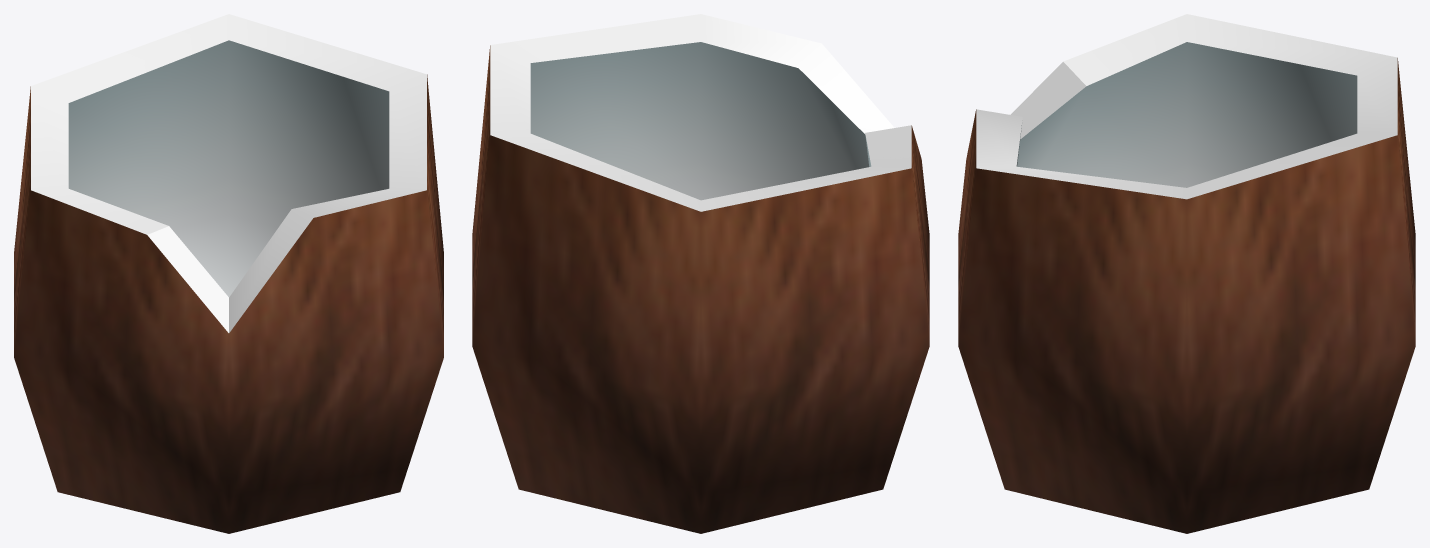
File: Coconut.fbx
The picture shows the model from 3 angles, left to right: view 1: azimuth 30°, elevation 25°; view 2: azimuth 150°, elevation 25°; view 3: azimuth 270°, elevation 25°; orthographic projection. The views are drawn at different scales.
Visible parts, largest first — view 1: Coconut; view 2: Coconut; view 3: Coconut.
Boxes of the visible parts, x1,y1,x2,y2 form: Coconut: [14, 14, 443, 533]; Coconut: [472, 14, 929, 533]; Coconut: [958, 14, 1415, 533].
Bounding box in the file's own units: 171 × 154 × 148.
